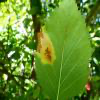Apple rust leaf: (37, 2, 94, 99)
